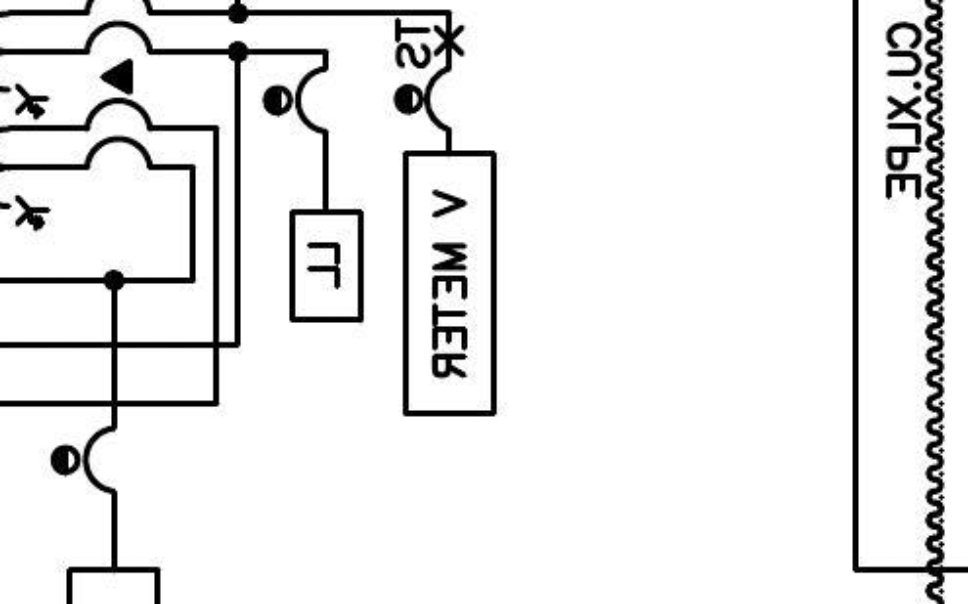LL: (287, 208, 367, 325)
v_m_digital: (401, 148, 499, 418)
